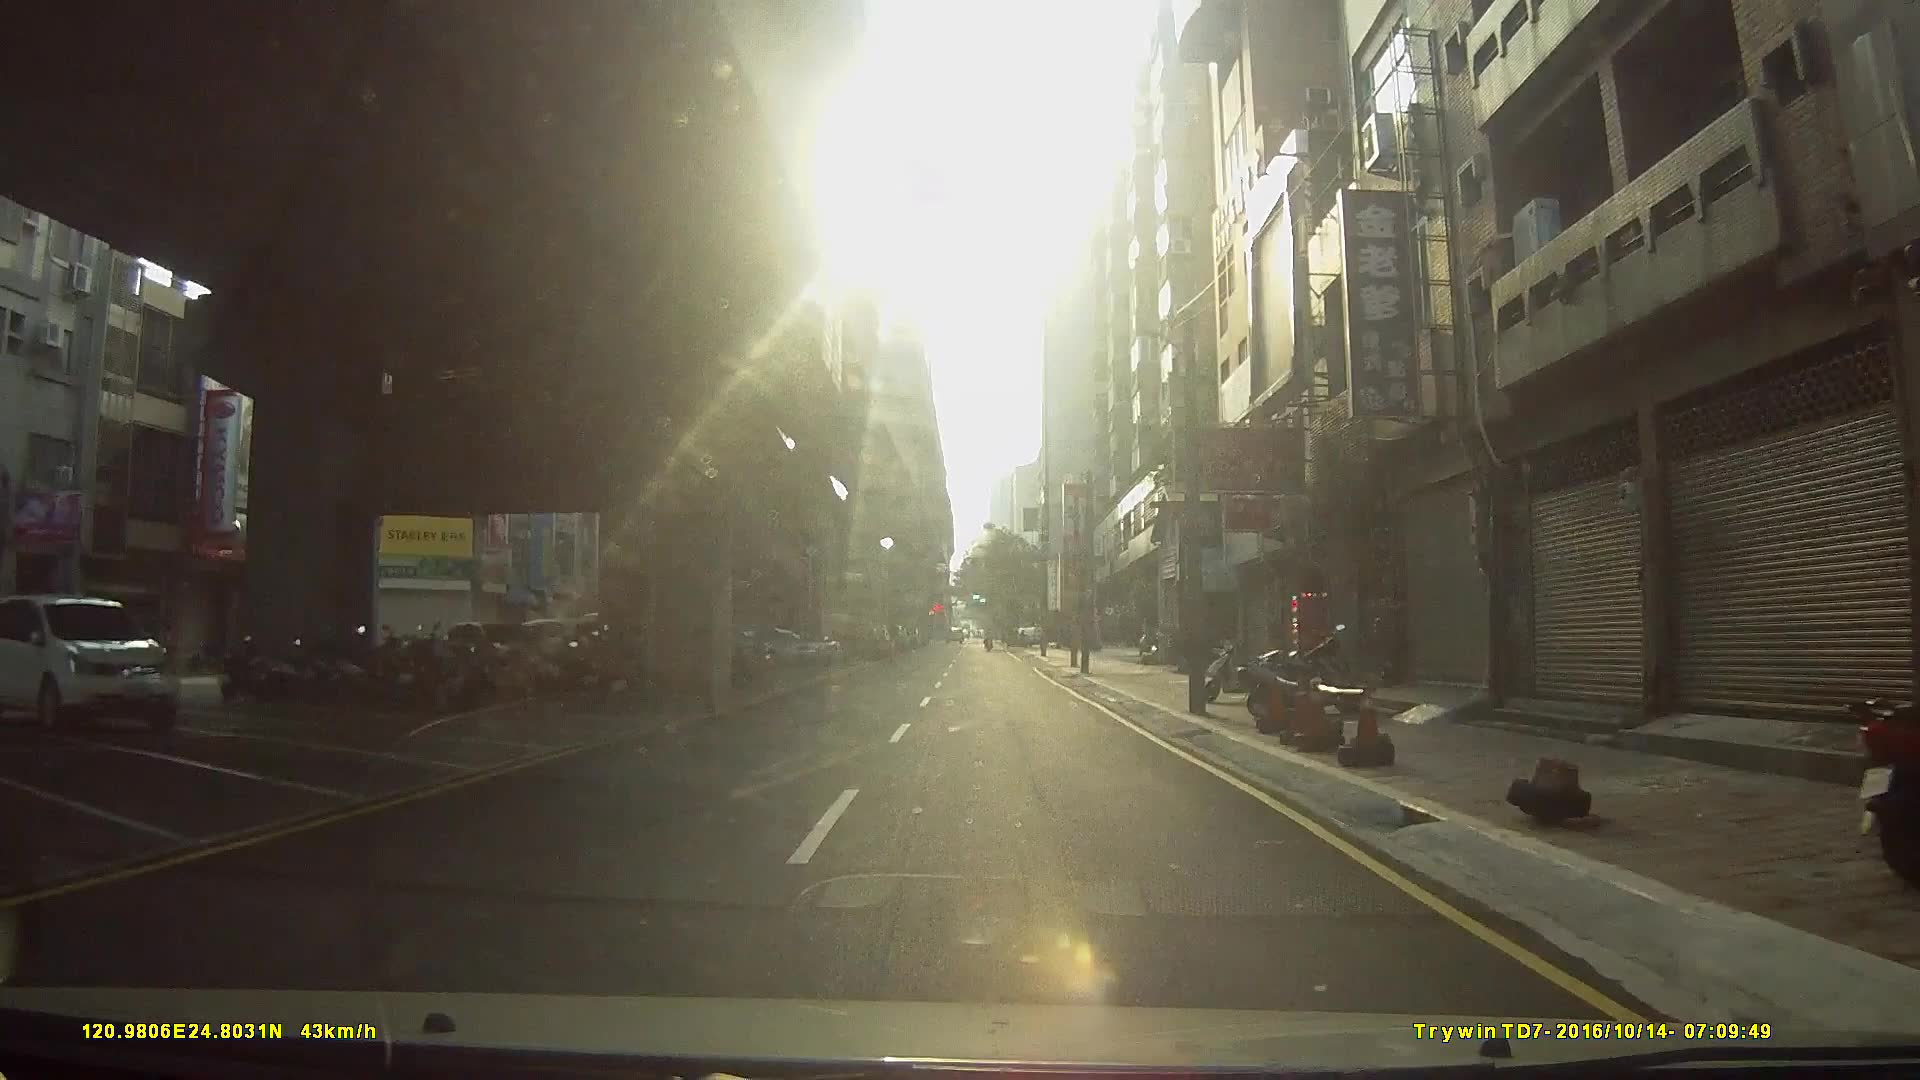vehicle: (3, 592, 178, 732)
